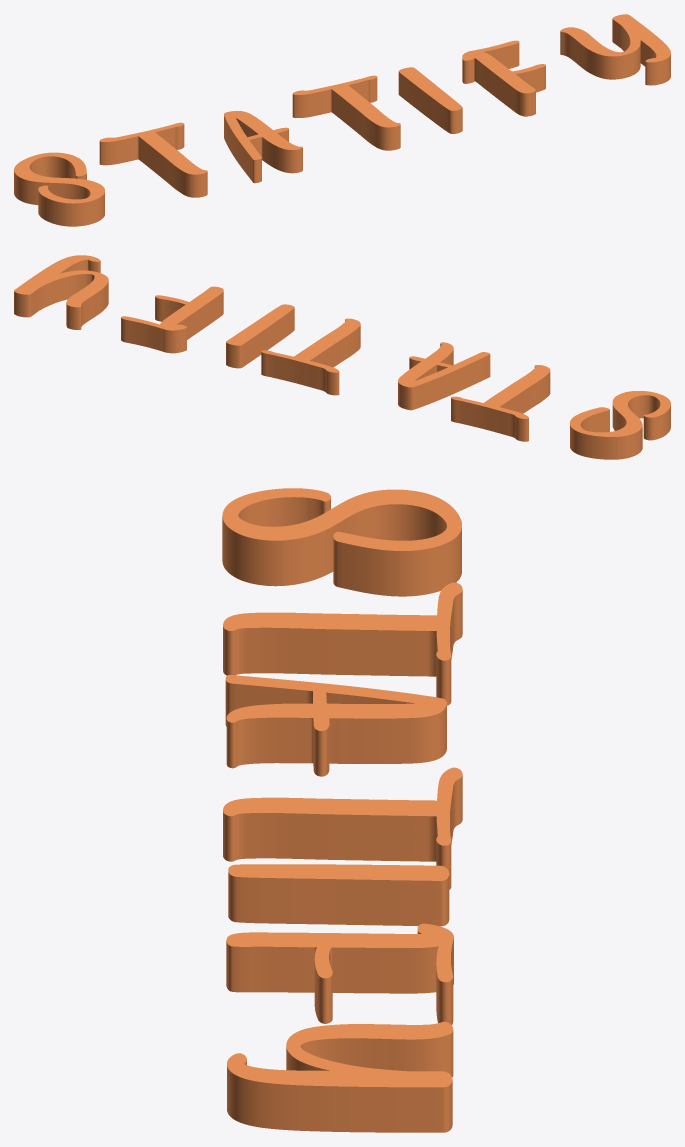
The model's file is Statify1.glb.
3 views of the same model, one above another, from view 1: azimuth 30°, elevation 25°; view 2: azimuth 150°, elevation 25°; view 3: azimuth 270°, elevation 25° (orthographic). The views are drawn at different scales.
Visible parts, largest first — view 1: Text; view 2: Text; view 3: Text.
Boxes of the visible parts, x1,y1,x2,y2 form: Text: (14,14,670,226); Text: (14,255,670,459); Text: (222,488,462,1132).
Bounding box in the file's own units: 4.52 × 0.16 × 0.7657.
